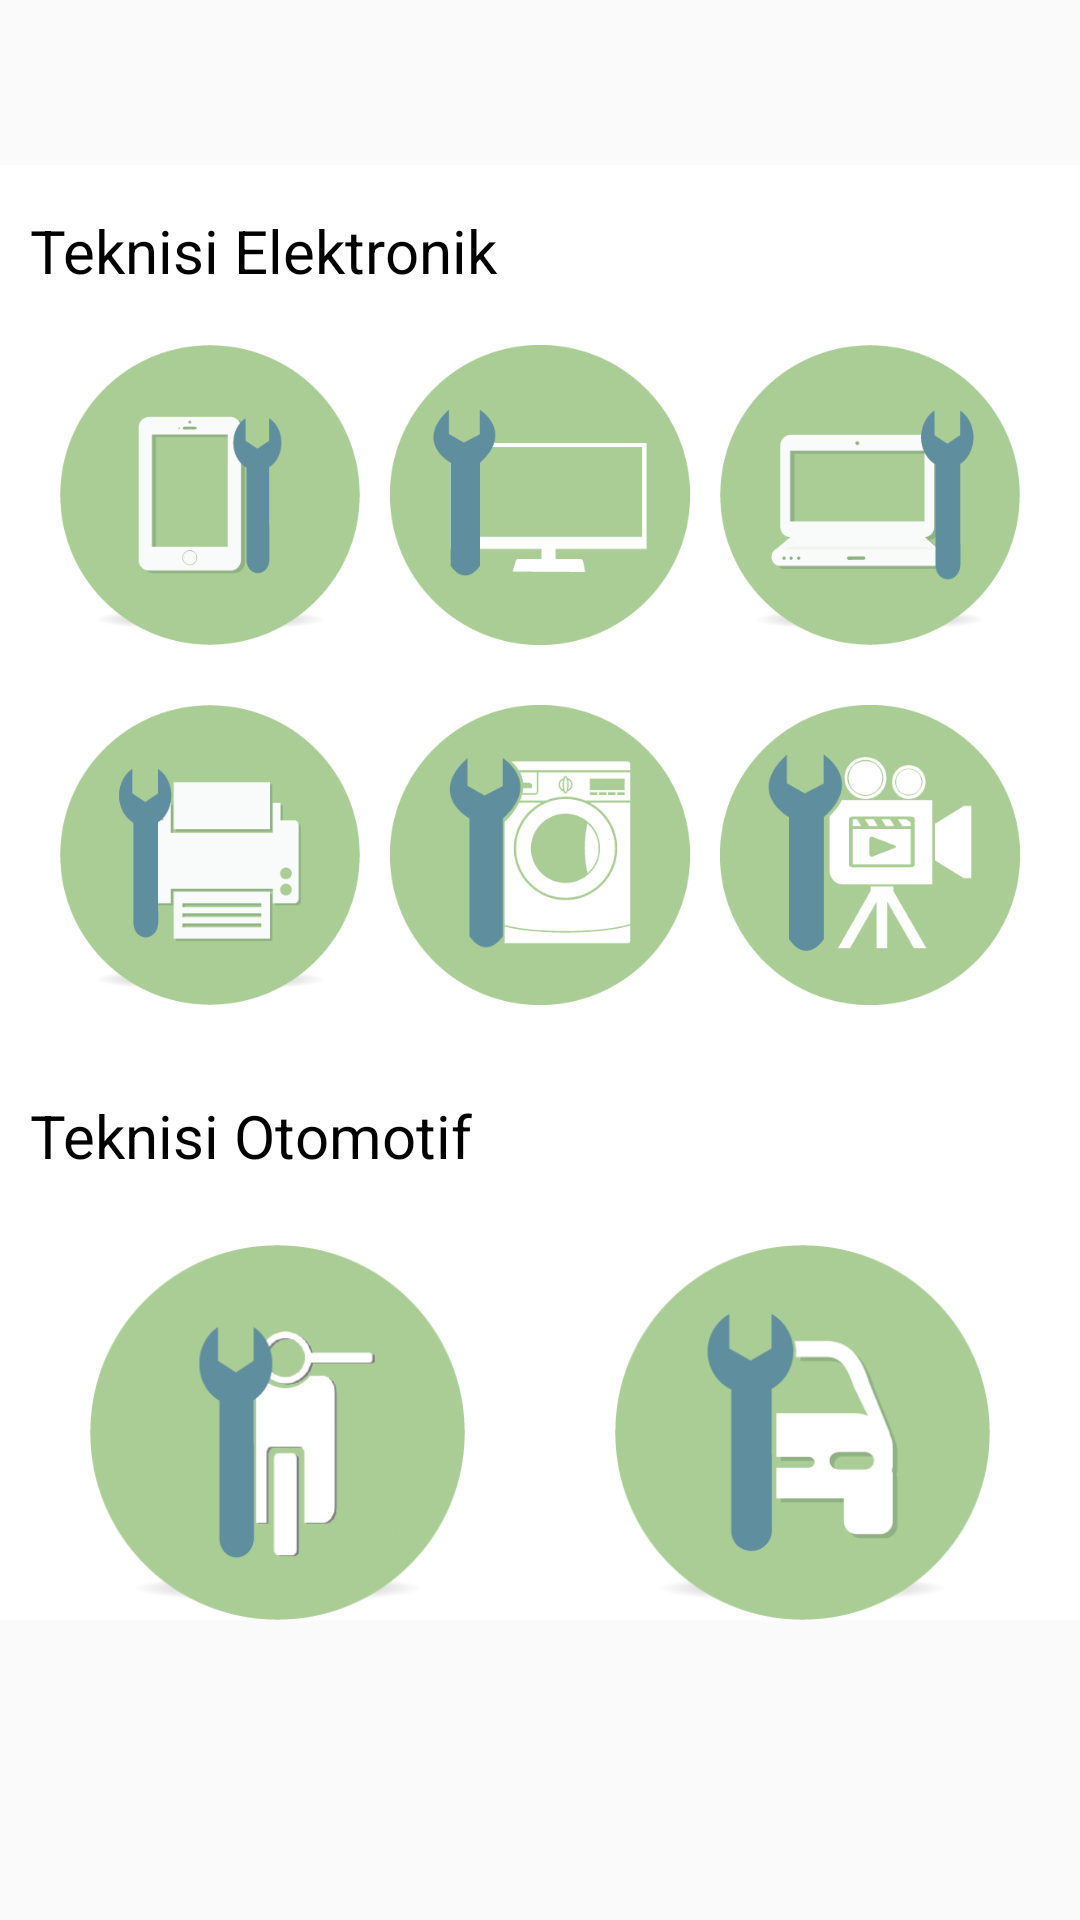

Where icons sit on this 1080 × 1920 app screen, as (x1,y1,x2,y2):
alatrumahtangga: (390,705,690,1005)
laptop: (720,345,1020,645)
musikvideo: (720,705,1020,1005)
printer: (60,705,360,1005)
